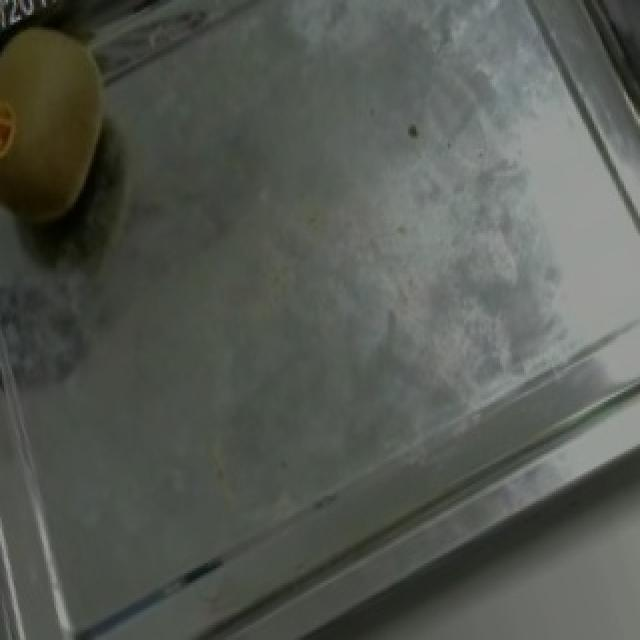Fruit: (0, 0, 146, 253)
